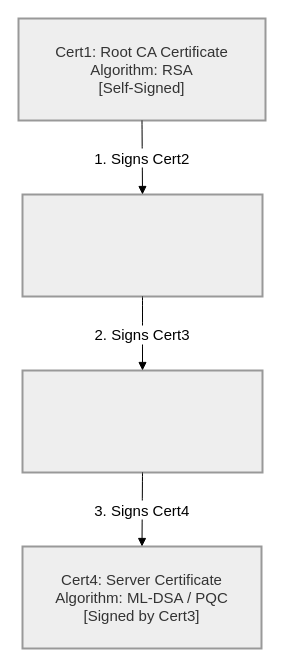
The diagram is 283 pixels wide and 666 high, and some of its shapes have lost their labels. Each missing label, with the centre of its shape:
Cert2: Intermediate CA 1 Algorithm: ECDSA [Signed by Cert1]: the point at 142,245
Cert3: Intermediate CA 2 Algorithm: EdDSA [Signed by Cert2]: the point at 142,421
